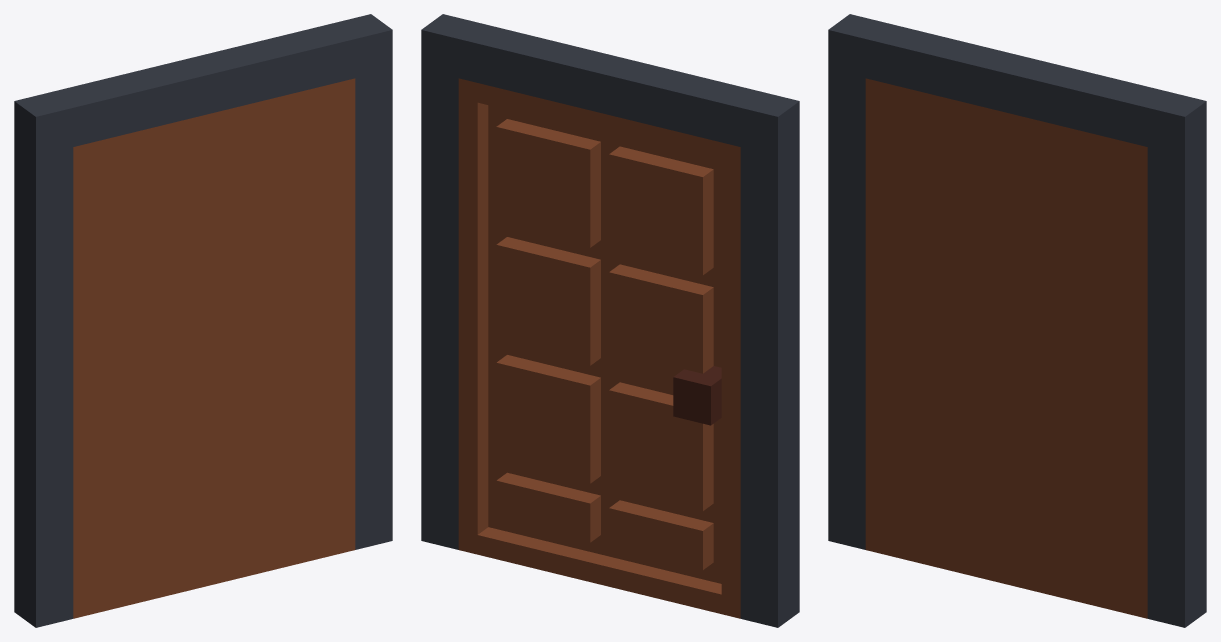
File: door.glb
The picture shows the model from 3 angles, left to right: view 1: azimuth 30°, elevation 25°; view 2: azimuth 150°, elevation 25°; view 3: azimuth 330°, elevation 25°; orthographic projection.
Visible parts, largest first — view 1: model; view 2: model; view 3: model.
Part boxes in pixels (bbox=[...]): model: bbox=[14, 14, 392, 627]; model: bbox=[421, 14, 799, 627]; model: bbox=[828, 14, 1206, 627].
Bounding box in the file's own units: 1.9 × 2.6 × 0.3.
